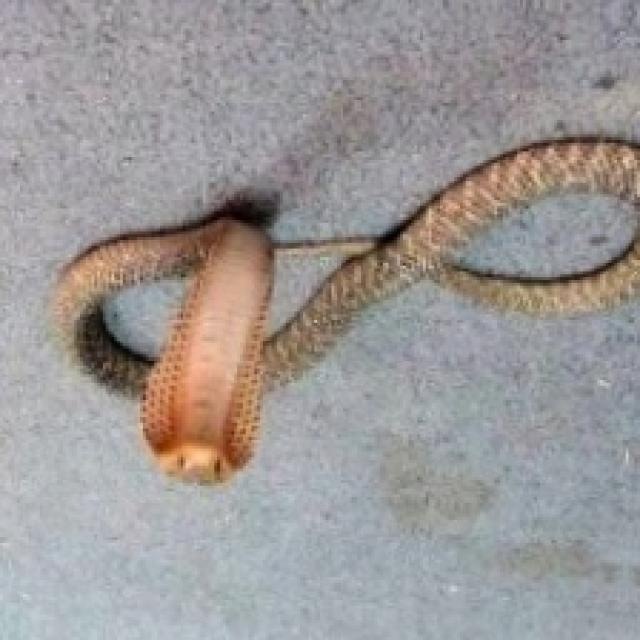philippine cobra: (51, 137, 637, 480)
